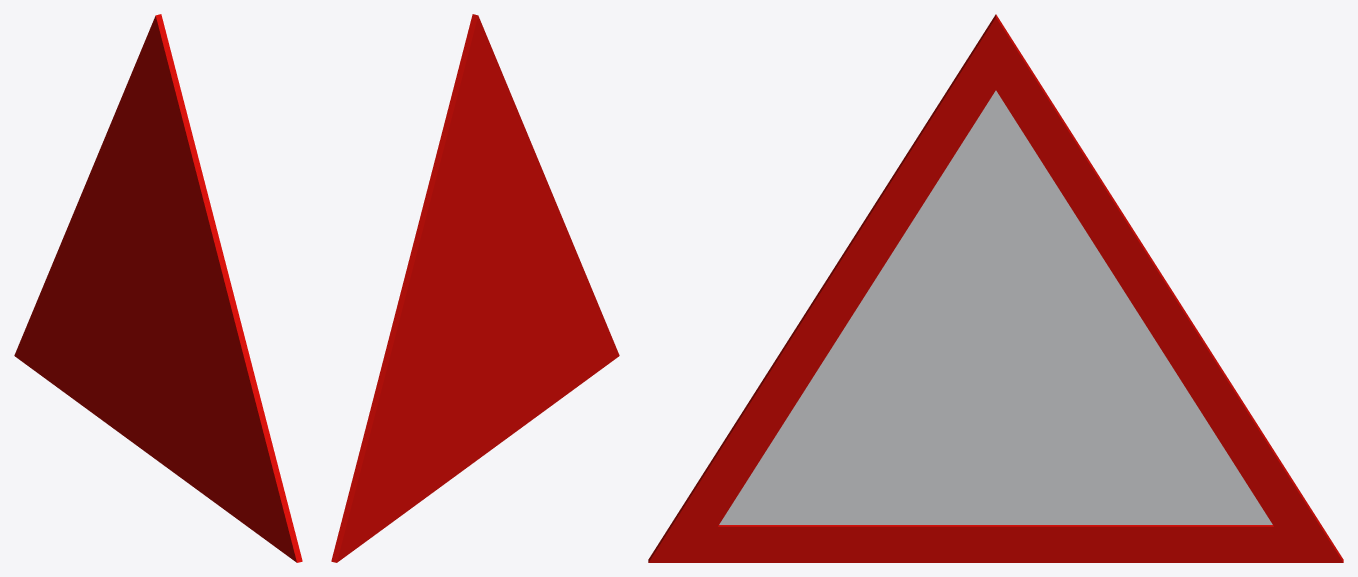
The model's file is K2_Tri.fbx.
3 views of the same model, side by side, from view 1: azimuth 30°, elevation 25°; view 2: azimuth 150°, elevation 25°; view 3: azimuth 270°, elevation 25° (orthographic). The views are drawn at different scales.
Parts seen in each view (by area): view 1: Tri; view 2: Tri; view 3: Tri.
Boxes of the visible parts, left/top/right/bottom form: Tri: left=14, top=14, right=302, bottom=562; Tri: left=331, top=14, right=619, bottom=562; Tri: left=648, top=14, right=1343, bottom=562.
Bounding box in the file's own units: 1 × 75 × 86.6.
